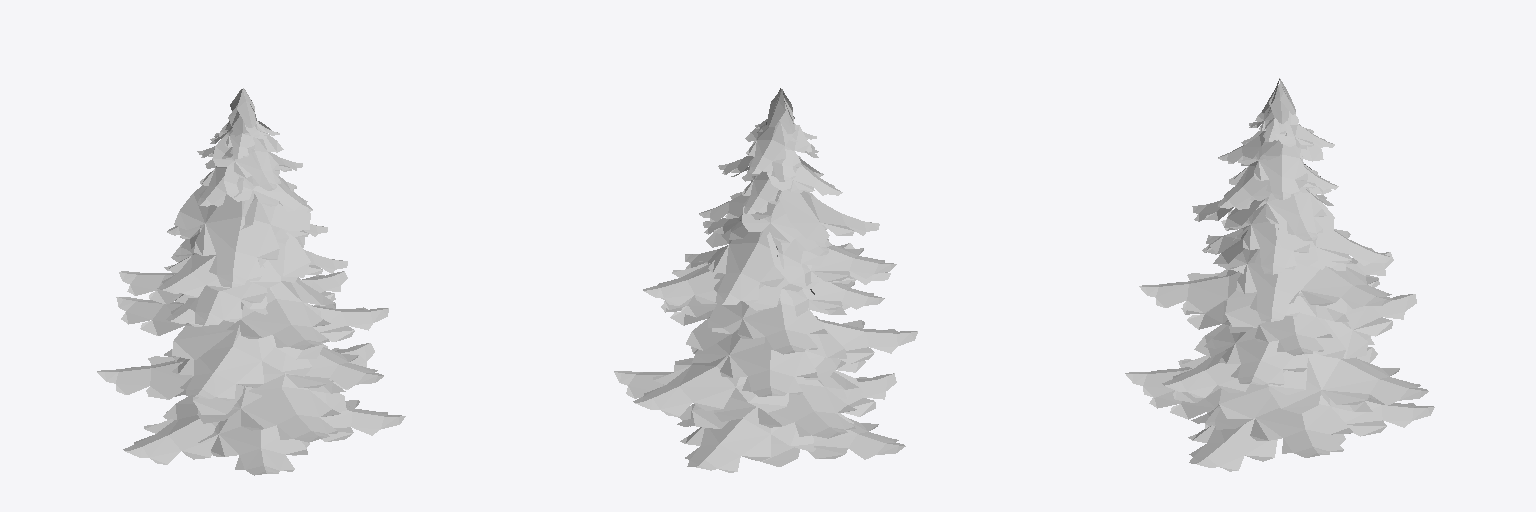
File: leaves.obj
3 renders of one model, left to right at view 1: azimuth 30°, elevation 25°; view 2: azimuth 150°, elevation 25°; view 3: azimuth 270°, elevation 25°, orthographic.
Parts seen in each view (by area): view 1: Leaves/001_Vert.019; view 2: Leaves/001_Vert.019; view 3: Leaves/001_Vert.019.
Boxes of the visible parts, x1=… form: Leaves/001_Vert.019: x1=97, y1=88, x2=405, y2=475; Leaves/001_Vert.019: x1=614, y1=88, x2=917, y2=472; Leaves/001_Vert.019: x1=1125, y1=78, x2=1434, y2=471.
Size of the model in its own units: 2.17 by 2.63 by 2.17.